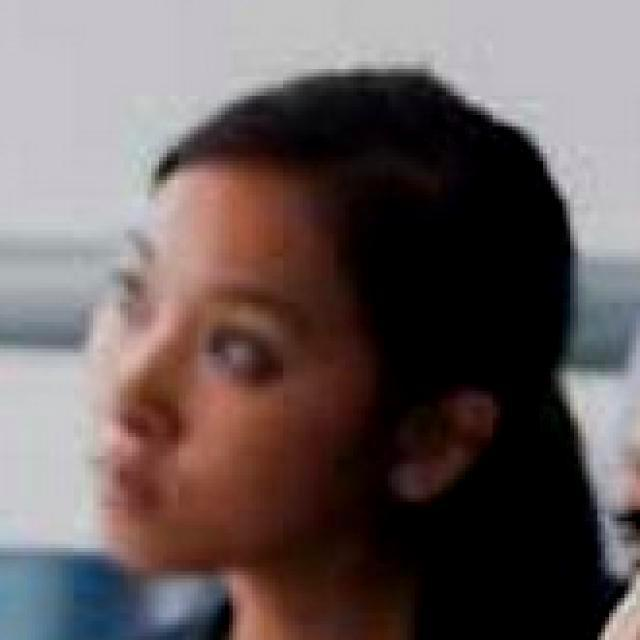Looking forward: (72, 163, 387, 573)
